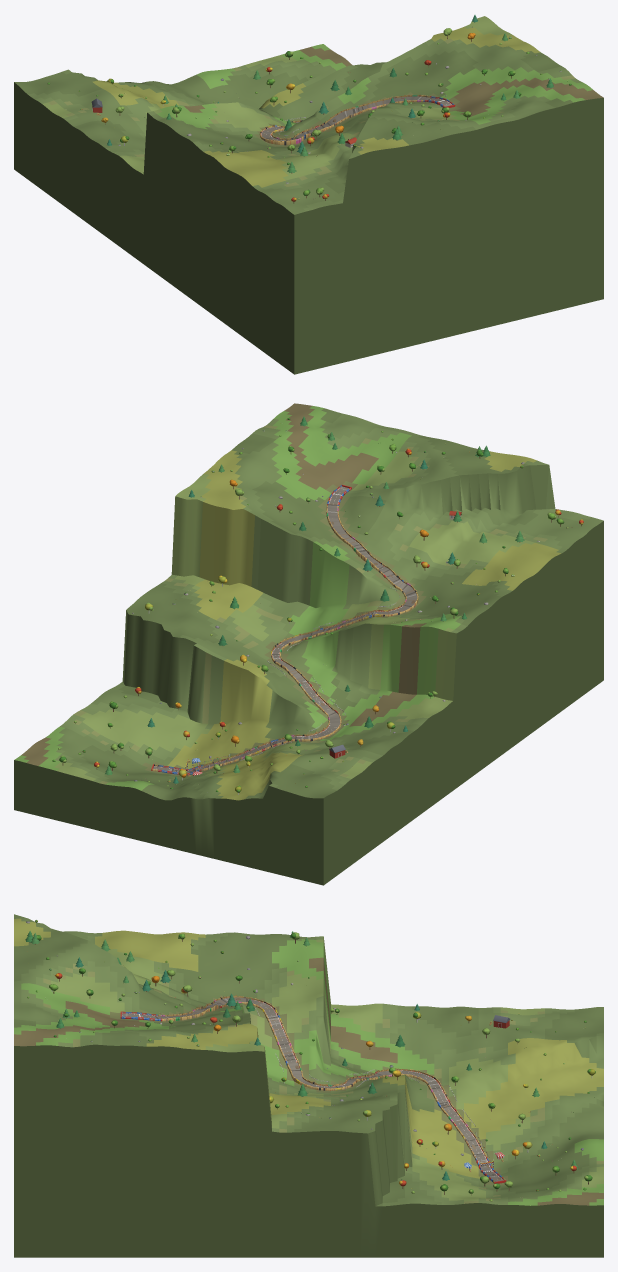
The picture shows the model from 3 angles, top to bottom: view 1: azimuth 30°, elevation 25°; view 2: azimuth 150°, elevation 25°; view 3: azimuth 270°, elevation 25°; orthographic projection. The views are drawn at different scales.
Visible parts, largest first — view 1: grass, hay, pines, leafy trees, road; view 2: grass, road, hay, leafy trees, pines, autumn trees; view 3: grass, road, hay, pines, leafy trees, autumn trees, buildings, bushes, markings.
Part boxes in pixels (left/top/right/bottom): grass: left=14, top=16, right=603, bottom=374; hay: left=259, top=94, right=455, bottom=145; pines: left=107, top=15, right=553, bottom=172; leafy trees: left=107, top=28, right=521, bottom=195; road: left=261, top=96, right=452, bottom=140; grass: left=14, top=403, right=603, bottom=885; road: left=153, top=486, right=417, bottom=773; hay: left=151, top=485, right=418, bottom=775; leafy trees: left=59, top=434, right=564, bottom=792; pines: left=105, top=416, right=524, bottom=783; autumn trees: left=94, top=448, right=583, bottom=777; grass: left=14, top=914, right=603, bottom=1257; road: left=121, top=997, right=503, bottom=1181; hay: left=120, top=995, right=506, bottom=1183; pines: left=25, top=931, right=578, bottom=1180; leafy trees: left=36, top=932, right=595, bottom=1193; autumn trees: left=55, top=973, right=576, bottom=1186; buildings: left=255, top=1008, right=510, bottom=1171; bushes: left=27, top=920, right=594, bottom=1201; markings: left=122, top=999, right=502, bottom=1179.
Bounding box in the file's own units: 255 × 168 × 400.
